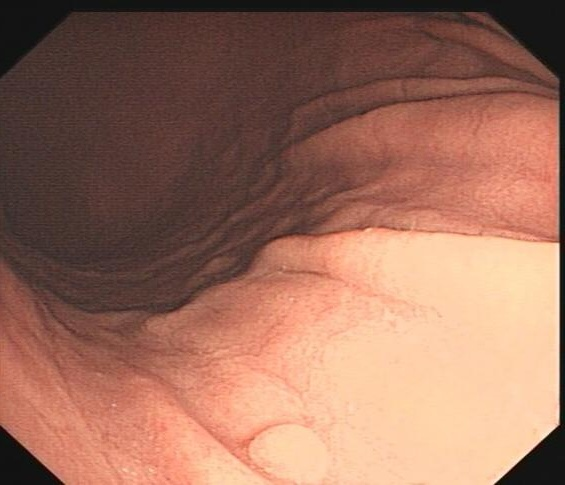Polyp: (245, 423, 340, 482)
